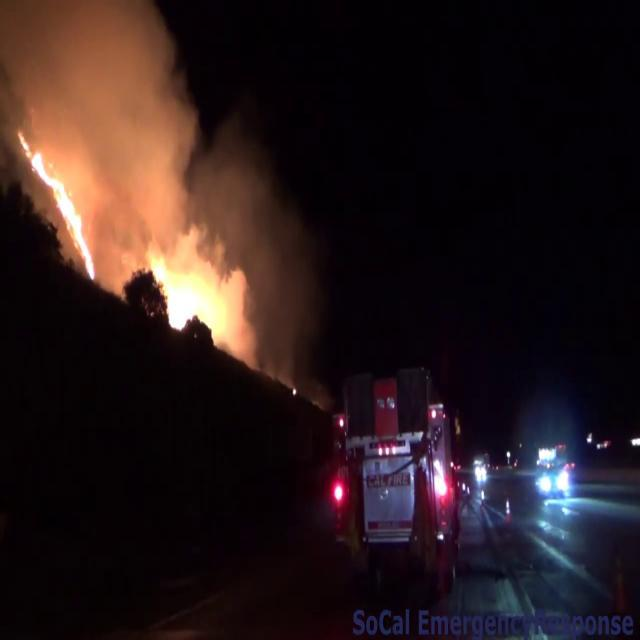Fire: (22, 122, 98, 282), (146, 227, 232, 353)
Smoke: (2, 1, 212, 230), (205, 110, 324, 372)
